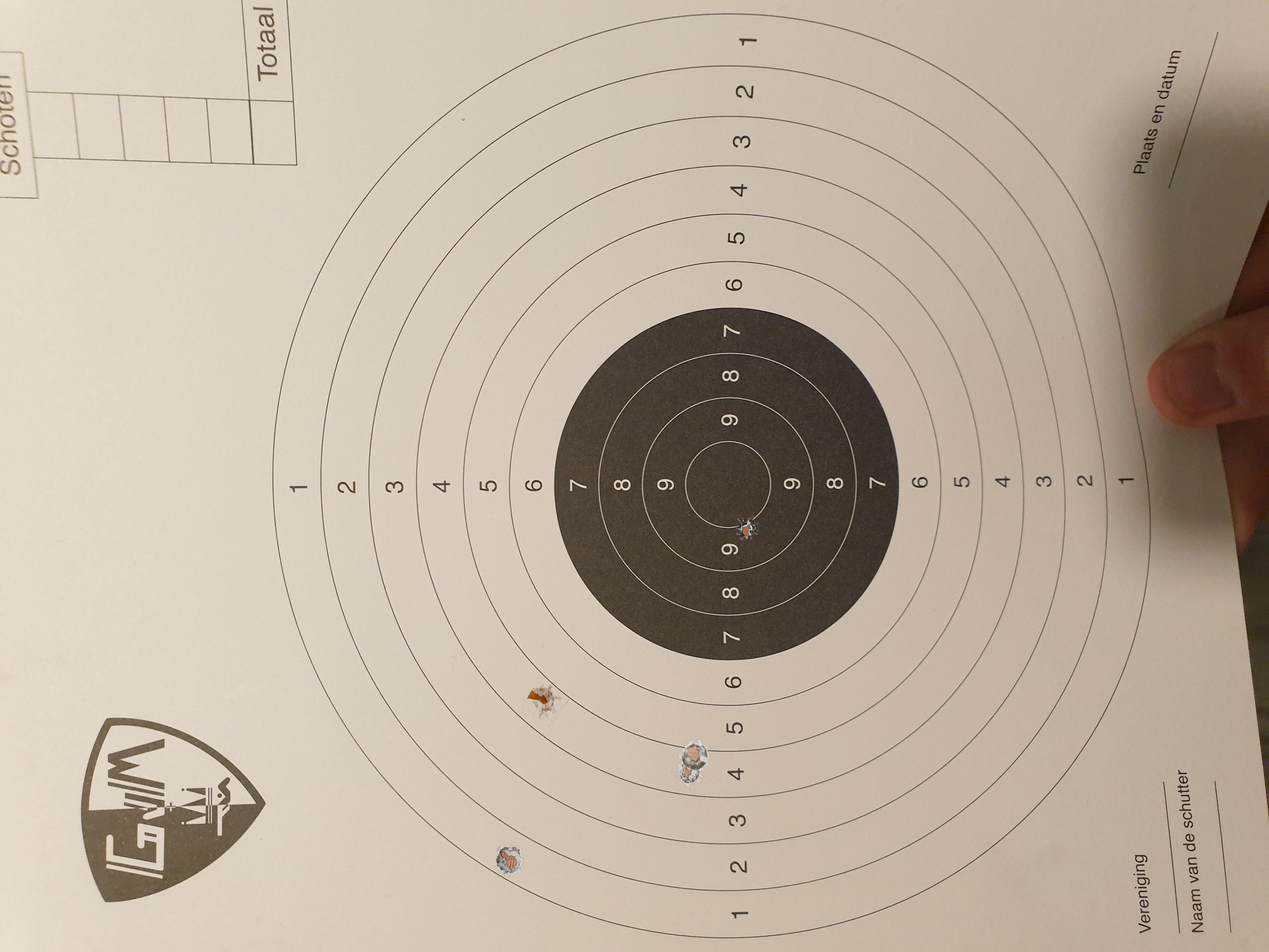hole: (527, 683, 561, 718), (495, 845, 523, 877), (680, 740, 709, 770), (734, 516, 760, 542), (678, 766, 699, 785)
